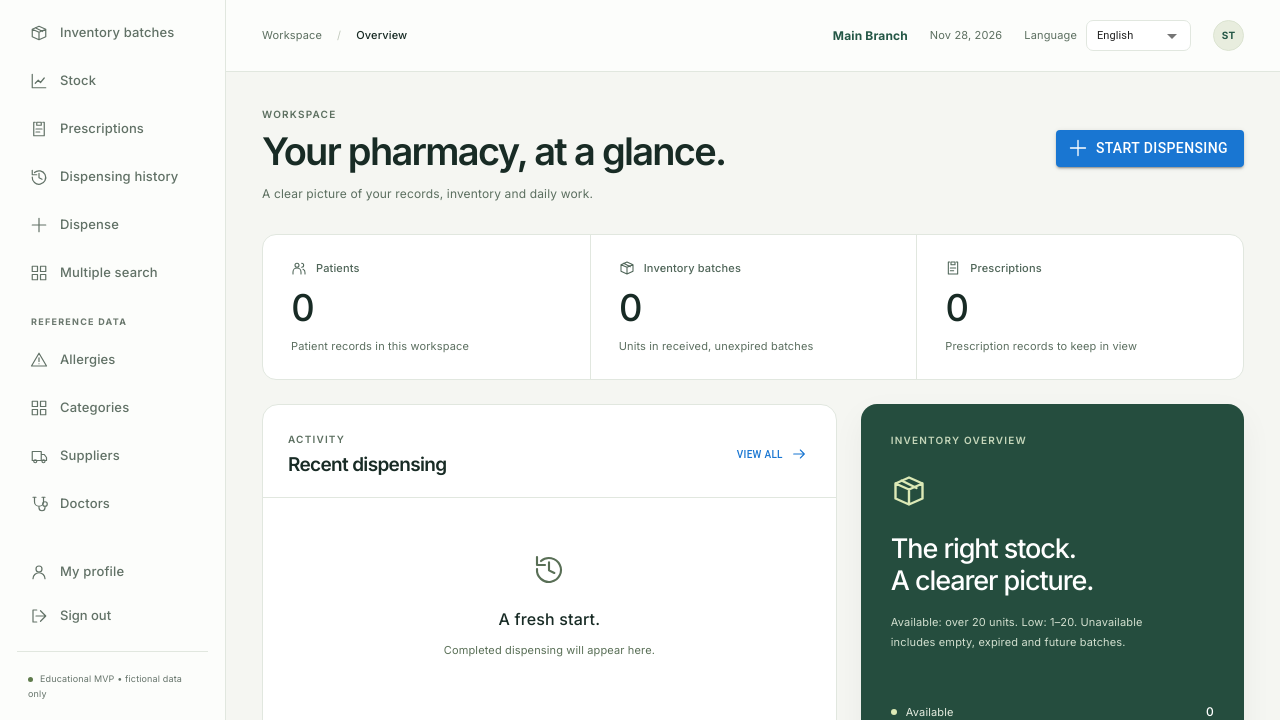
Test: sign out during a workspace load leaves sign in available
This screenshot has width=1280, height=720.
(page scrolled)
Click the button "Sign out".
click(112, 616)  # box [17,594,208,638]
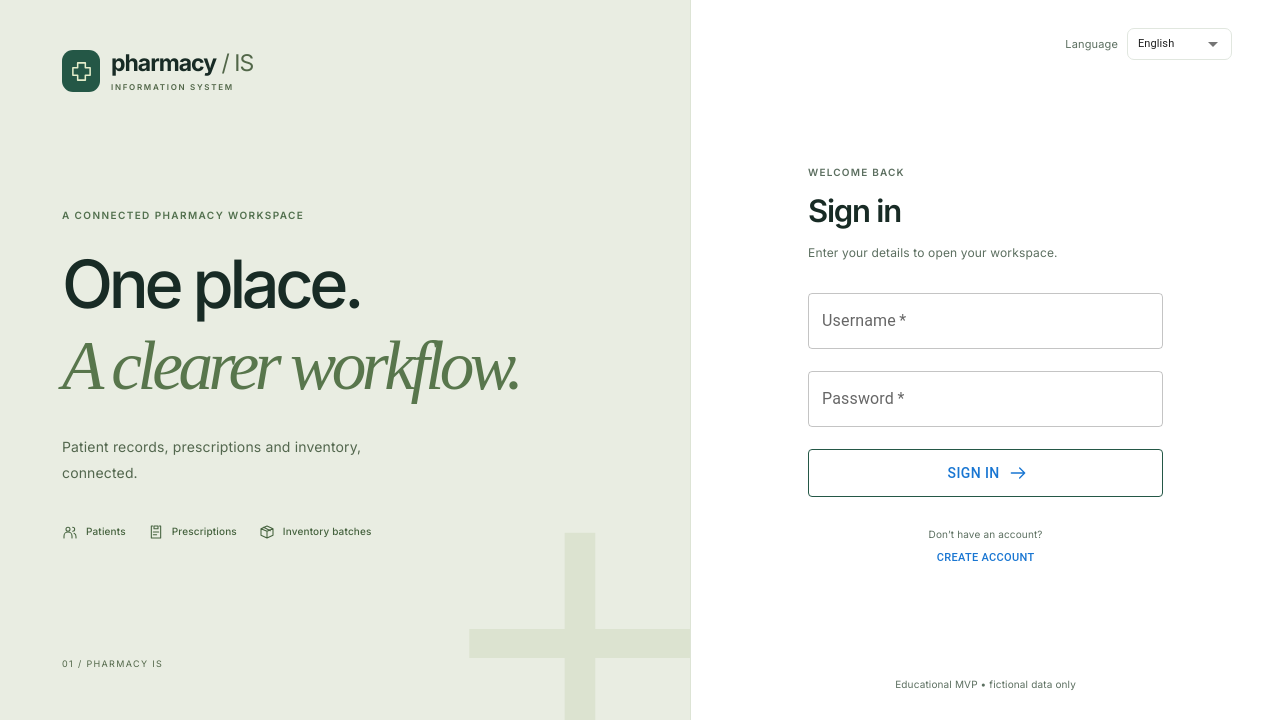
Result: the button "Sign in" is enabled at [808,449,1163,497]
